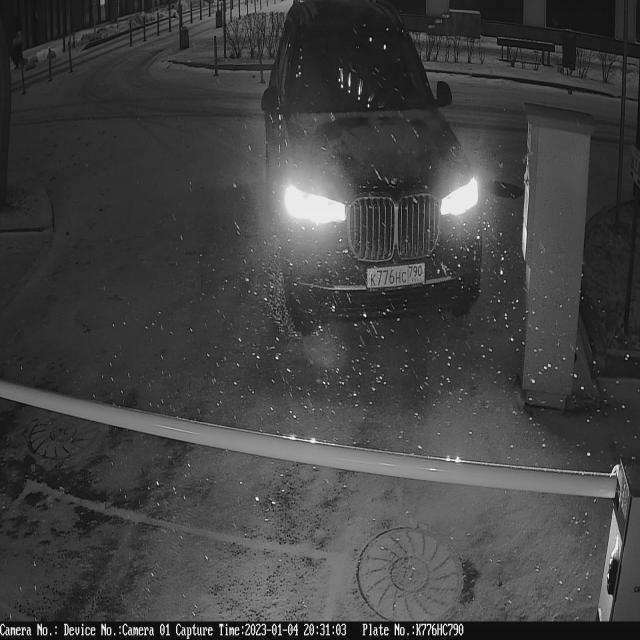car-plate-numbers: (364, 263, 431, 295)
